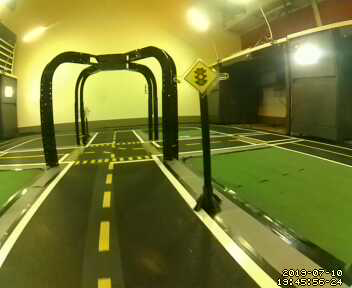Traffic light sign: (183, 57, 216, 96)
